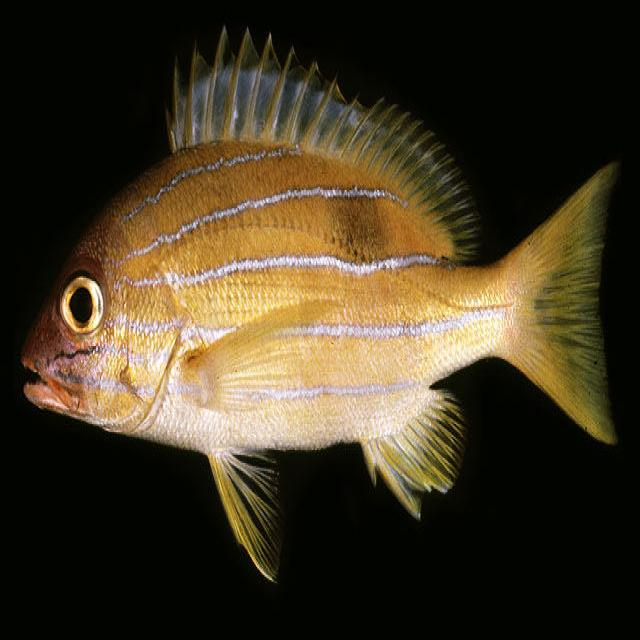ikan: (19, 23, 622, 585)
